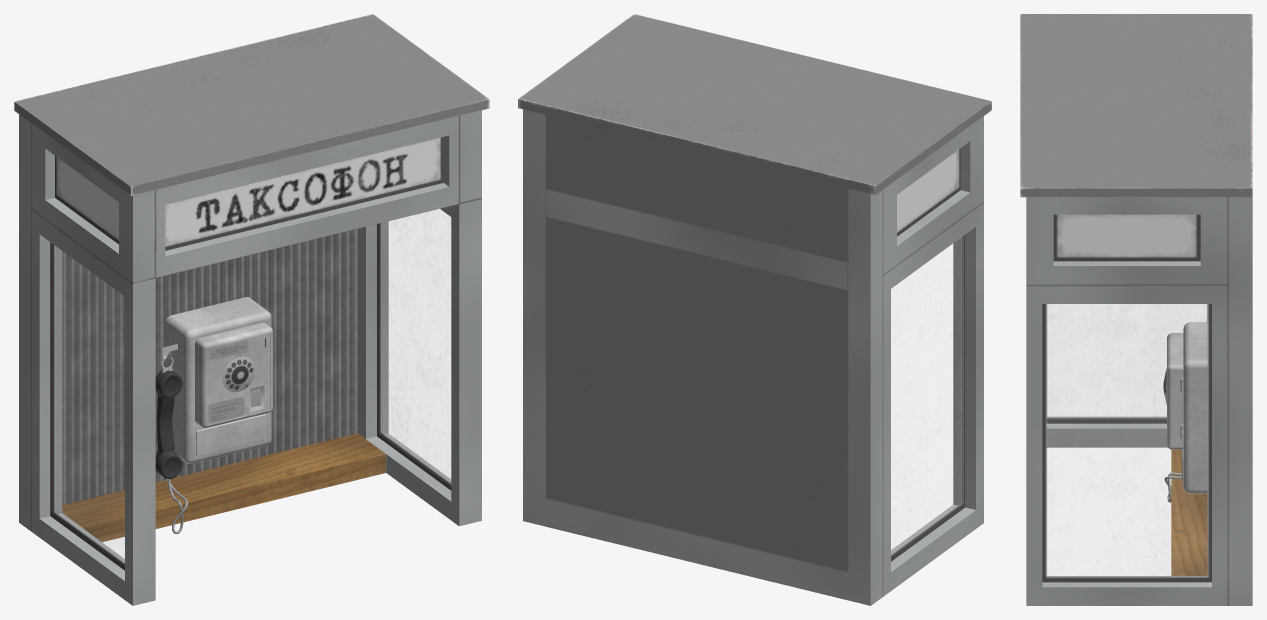
File: payphone.glb
3 views of the same model, side by side, from view 1: azimuth 30°, elevation 25°; view 2: azimuth 150°, elevation 25°; view 3: azimuth 270°, elevation 25° (orthographic).
Visible parts, largest first — view 1: defaultMaterial; view 2: defaultMaterial; view 3: defaultMaterial.
Part boxes in pixels (left/top/right/bottom): defaultMaterial: left=14, top=14, right=489, bottom=605; defaultMaterial: left=518, top=14, right=991, bottom=605; defaultMaterial: left=1020, top=14, right=1252, bottom=605.
Size of the model in its own units: 2.09 by 2.4 by 1.18.
Materials: 1 (1 with a texture image).
